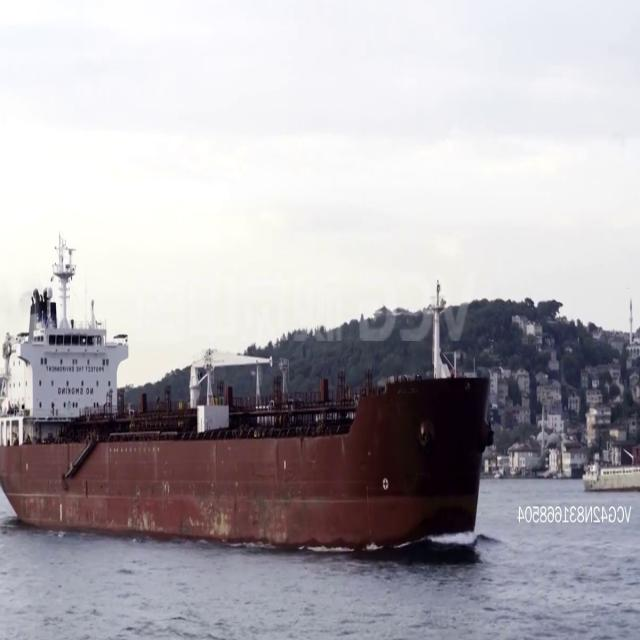cargoship: (0, 271, 494, 548), (583, 455, 640, 487)
